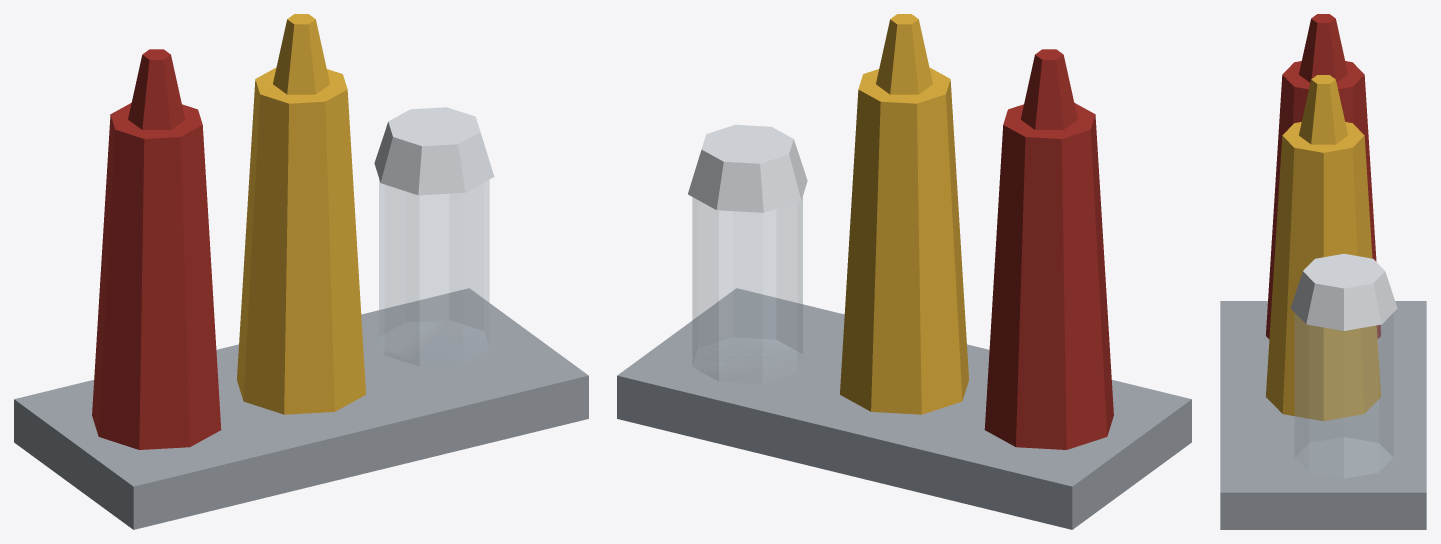
The model's file is tableware_condiments.glb.
The picture shows the model from 3 angles, left to right: view 1: azimuth 30°, elevation 25°; view 2: azimuth 150°, elevation 25°; view 3: azimuth 270°, elevation 25°; orthographic projection. The views are drawn at different scales.
Parts seen in each view (by area): view 1: tableware_condiments; view 2: tableware_condiments; view 3: tableware_condiments.
Part boxes in pixels (box(x1,y1,x2,y2)): tableware_condiments: box(14, 14, 588, 529); tableware_condiments: box(617, 14, 1191, 529); tableware_condiments: box(1220, 14, 1426, 529).
Size of the model in its own units: 0.22 by 0.19 by 0.1.
